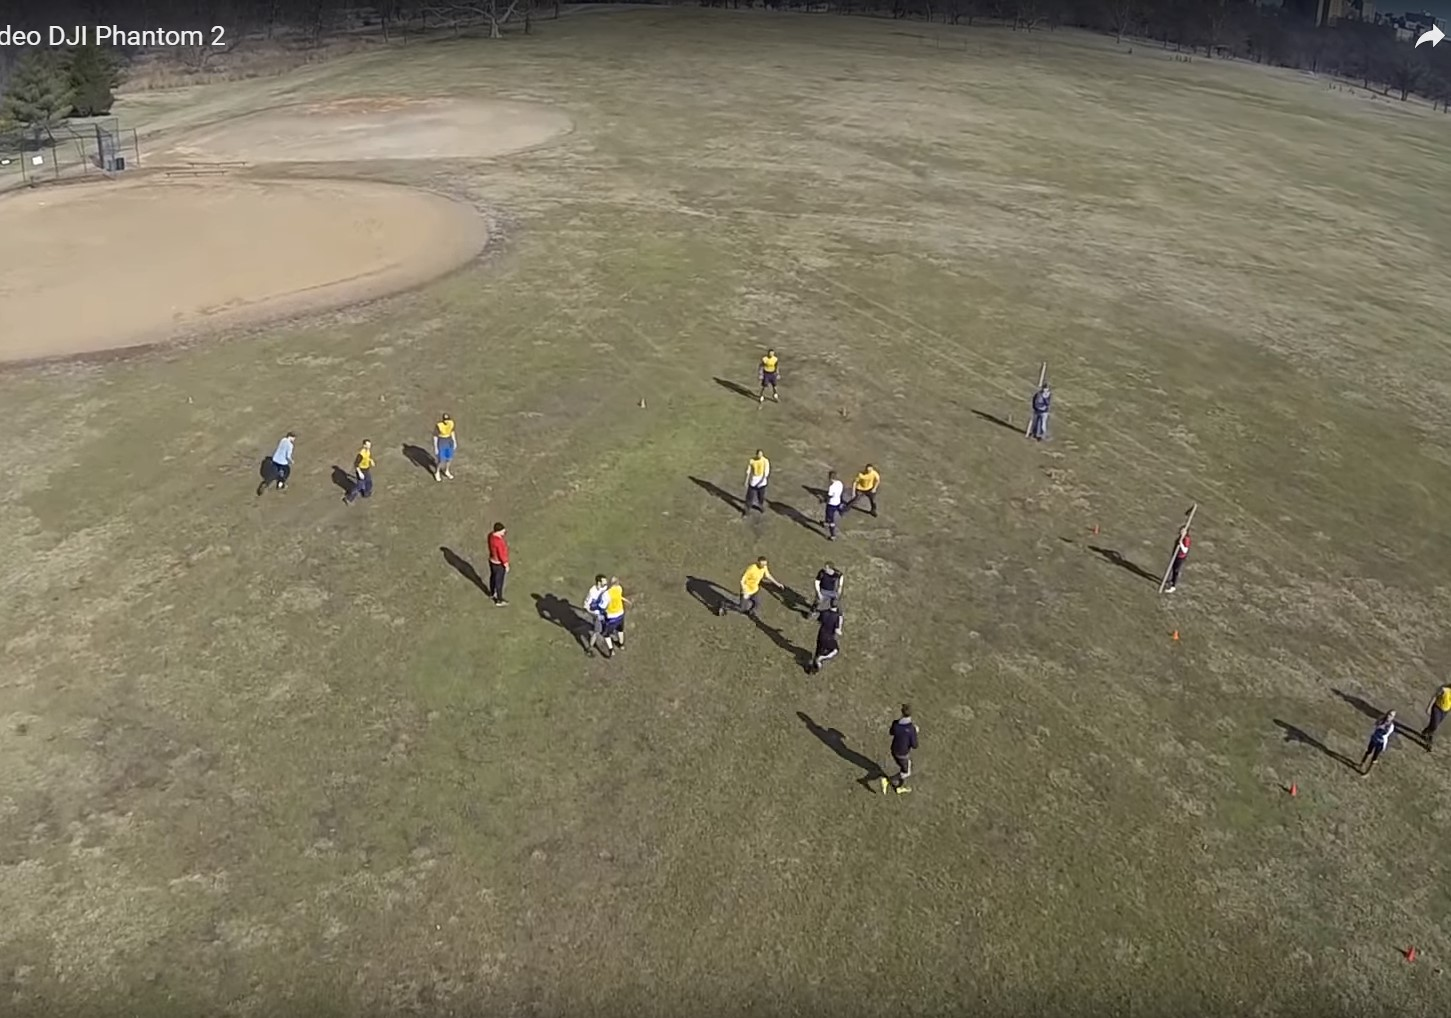insan: (878, 695, 921, 795), (720, 554, 782, 616), (809, 598, 847, 672), (487, 515, 516, 607), (1358, 706, 1394, 780), (342, 437, 380, 502), (259, 431, 297, 495), (584, 574, 612, 656), (740, 449, 773, 514), (429, 412, 463, 475), (1421, 680, 1451, 752), (600, 570, 625, 649), (1165, 523, 1191, 594), (847, 464, 883, 514), (1030, 379, 1057, 440), (816, 562, 846, 611), (755, 348, 780, 401), (820, 469, 838, 541)
